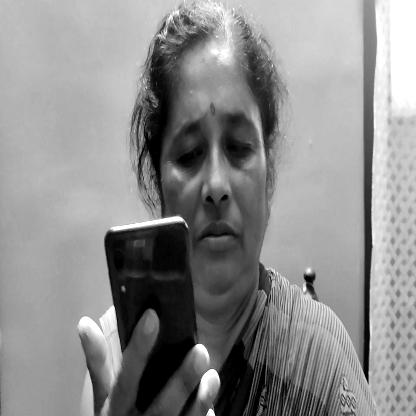Distracted: (155, 13, 279, 312)
